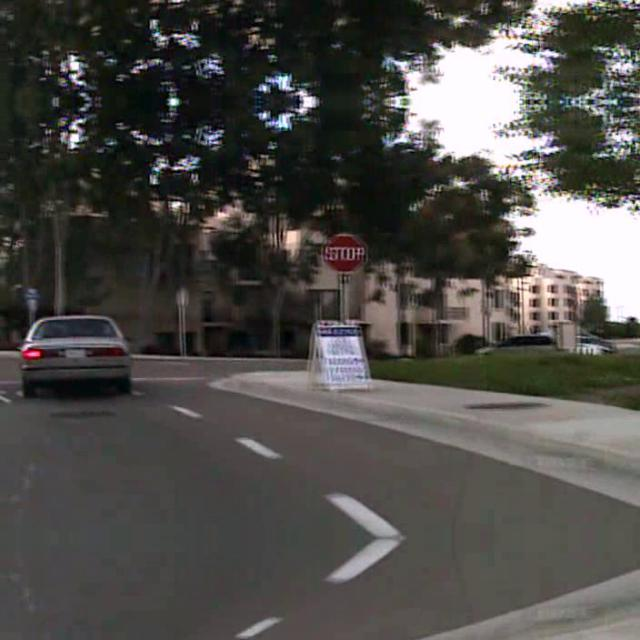stop: (321, 231, 367, 271)
